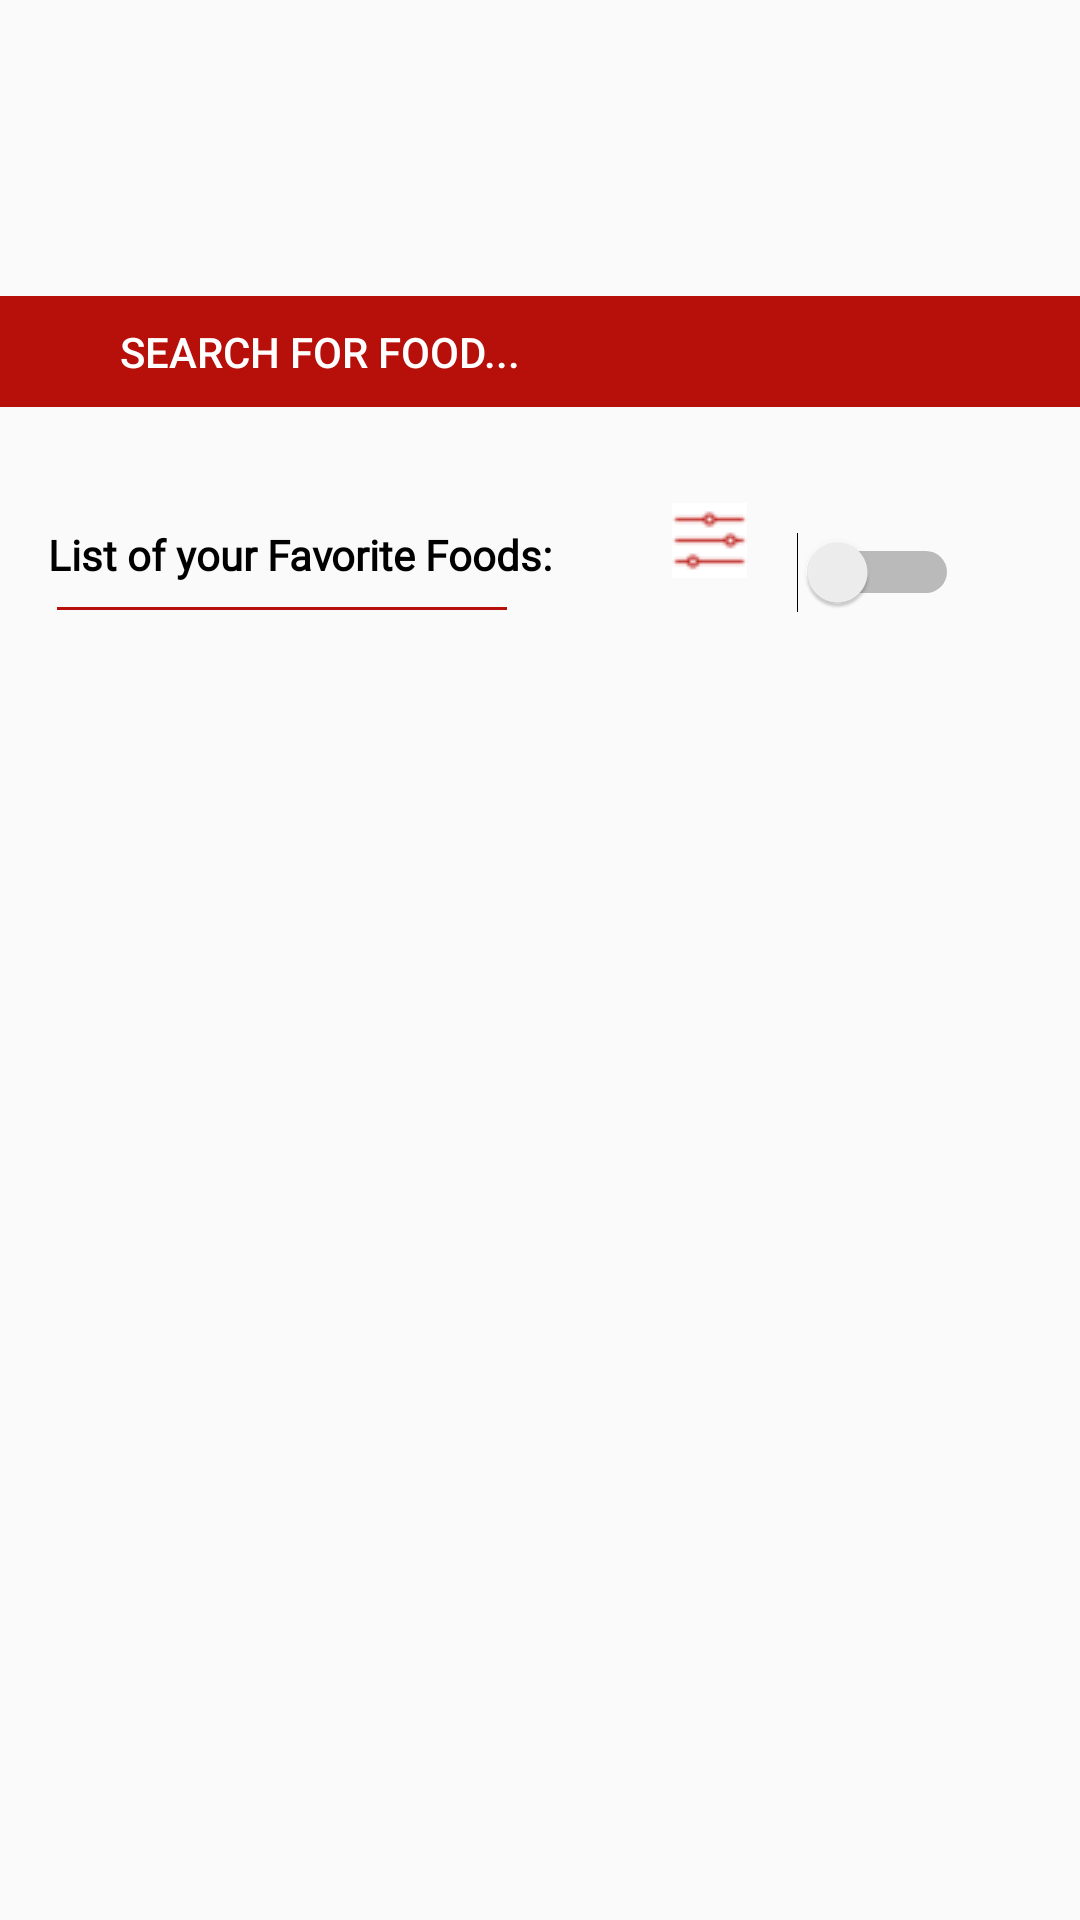

Screen size 1080 × 1920. Icon name, then its center in pixels as point (x, y):
slider filter: point (709, 540)
